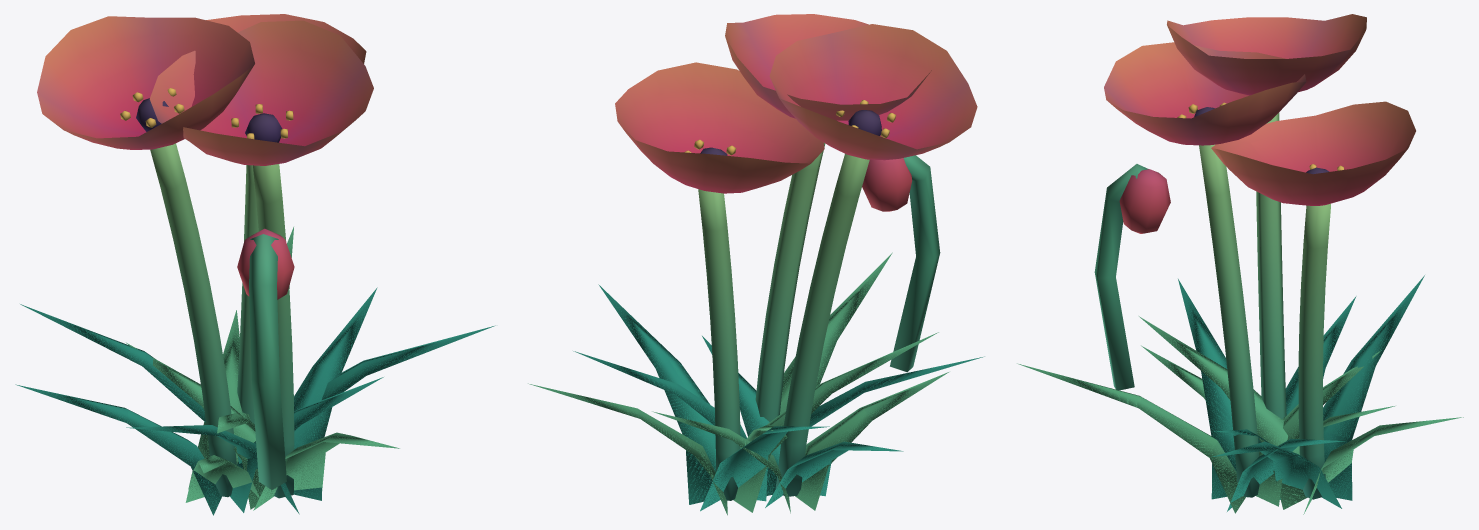
Rendered from verdant_flower_poppy.glb.
3 views of the same model, side by side, from view 1: azimuth 30°, elevation 25°; view 2: azimuth 150°, elevation 25°; view 3: azimuth 270°, elevation 25° (orthographic). The views are drawn at different scales.
Visible parts, largest first — view 1: verdant_flower_poppy; view 2: verdant_flower_poppy; view 3: verdant_flower_poppy.
Part boxes in pixels (box(x1,y1,x2,y2)): verdant_flower_poppy: box(15, 14, 495, 515); verdant_flower_poppy: box(528, 14, 984, 515); verdant_flower_poppy: box(1017, 14, 1463, 514).
Bounding box in the file's own units: 0.7767 × 0.8461 × 0.8023.
